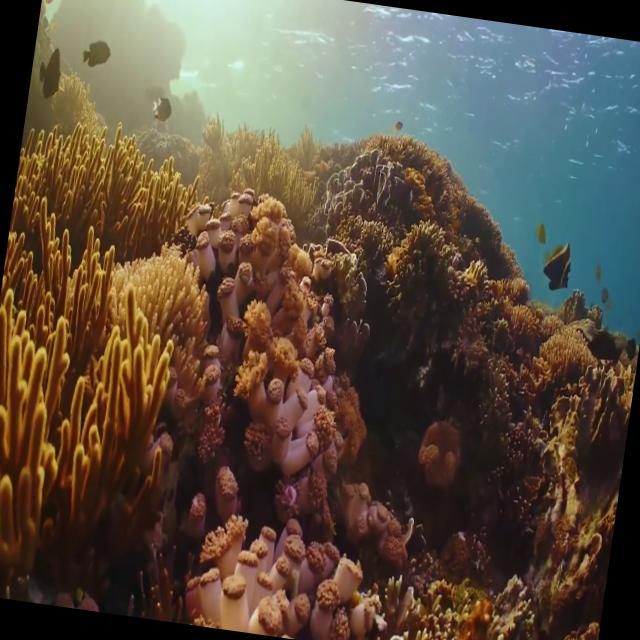fish: (541, 232, 577, 293), (34, 45, 66, 102), (80, 38, 113, 71), (148, 97, 174, 124)
